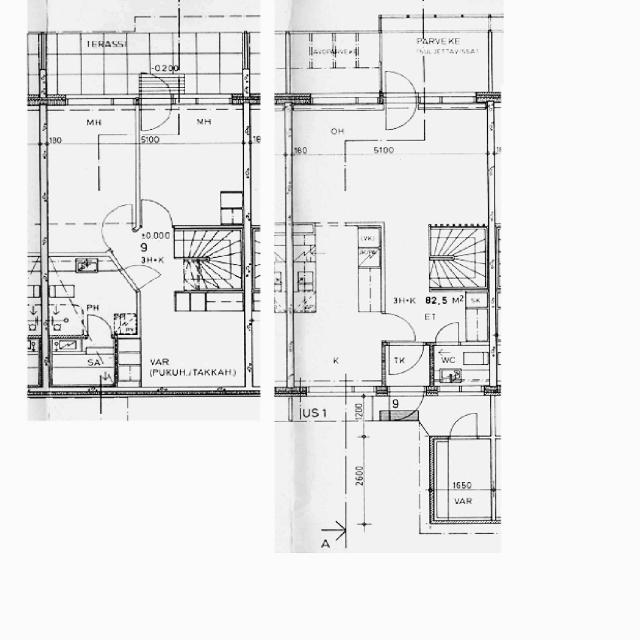door: (0, 405, 287, 640), (293, 310, 384, 390), (428, 436, 497, 528), (380, 66, 419, 133), (138, 72, 175, 133), (377, 310, 420, 345), (383, 341, 426, 376), (139, 196, 176, 230), (388, 387, 424, 418), (128, 263, 162, 291), (85, 311, 114, 342), (100, 201, 134, 227), (433, 319, 463, 348)
window: (299, 91, 381, 109), (419, 93, 484, 109), (71, 383, 103, 399)
zone: (285, 110, 489, 228), (43, 105, 137, 236), (125, 308, 247, 394), (139, 139, 245, 225), (293, 224, 382, 316), (45, 261, 136, 339), (44, 0, 172, 35), (44, 342, 117, 388), (429, 343, 493, 392), (384, 340, 425, 376), (47, 298, 82, 338), (445, 409, 484, 441), (389, 387, 424, 421)
